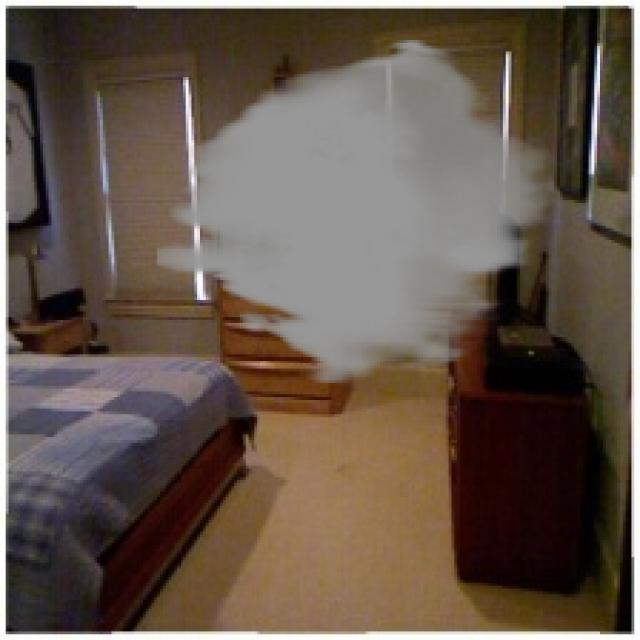smoke: (157, 37, 554, 386)
